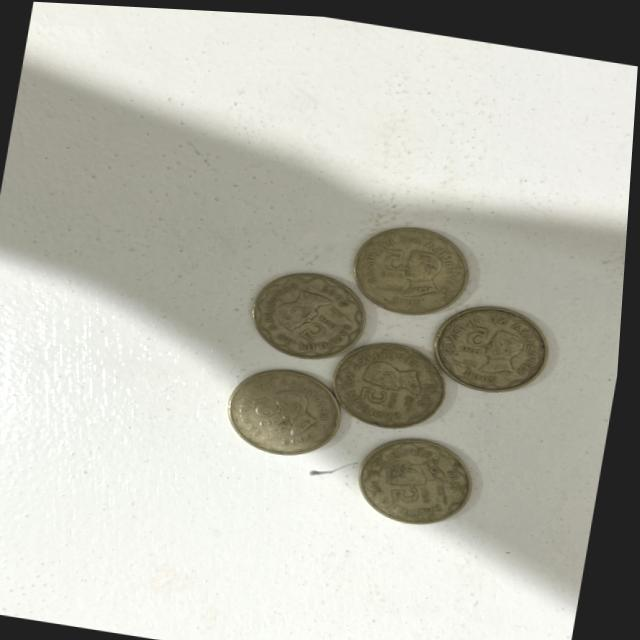5_Old_Front: (387, 469, 445, 508), (299, 303, 345, 345), (456, 315, 499, 355), (379, 236, 413, 280), (254, 390, 289, 430), (359, 380, 410, 407)
